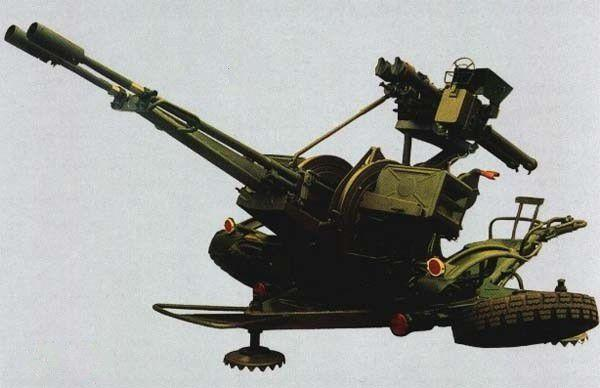MIL_SPG: (5, 22, 599, 370)
